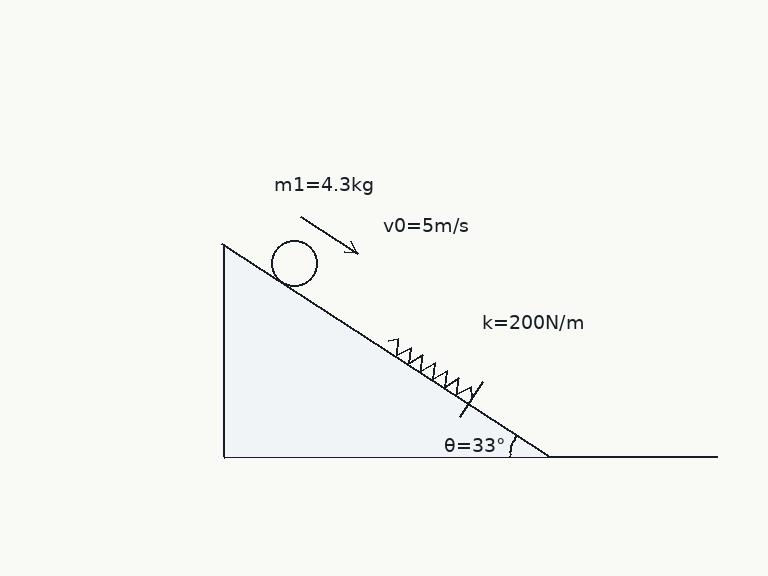ball: (269, 238, 319, 288)
ramp: (221, 243, 552, 459)
spring: (386, 337, 475, 398)
